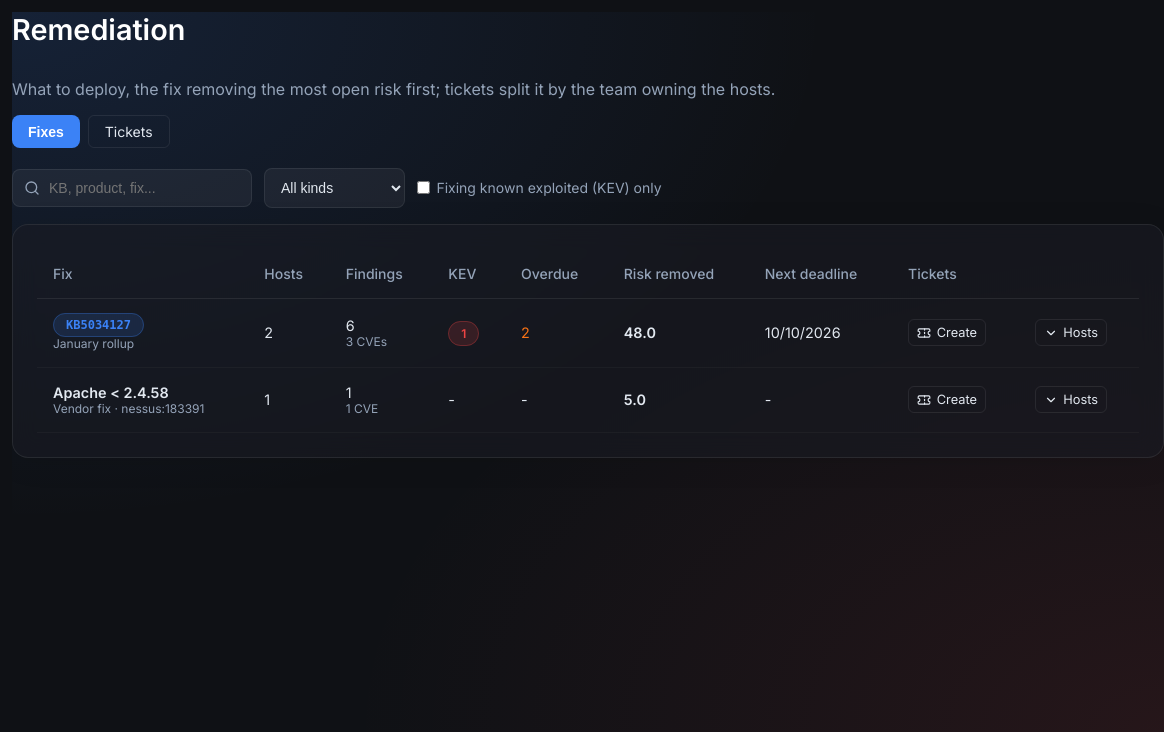
it: RemediationPlan › opens the hosts still waiting for a fix
The width and height of the screenshot is (1164, 732).
Click the button with aria-label "Show hosts for KB5034127": (1071, 333) [1035,319,1107,346]
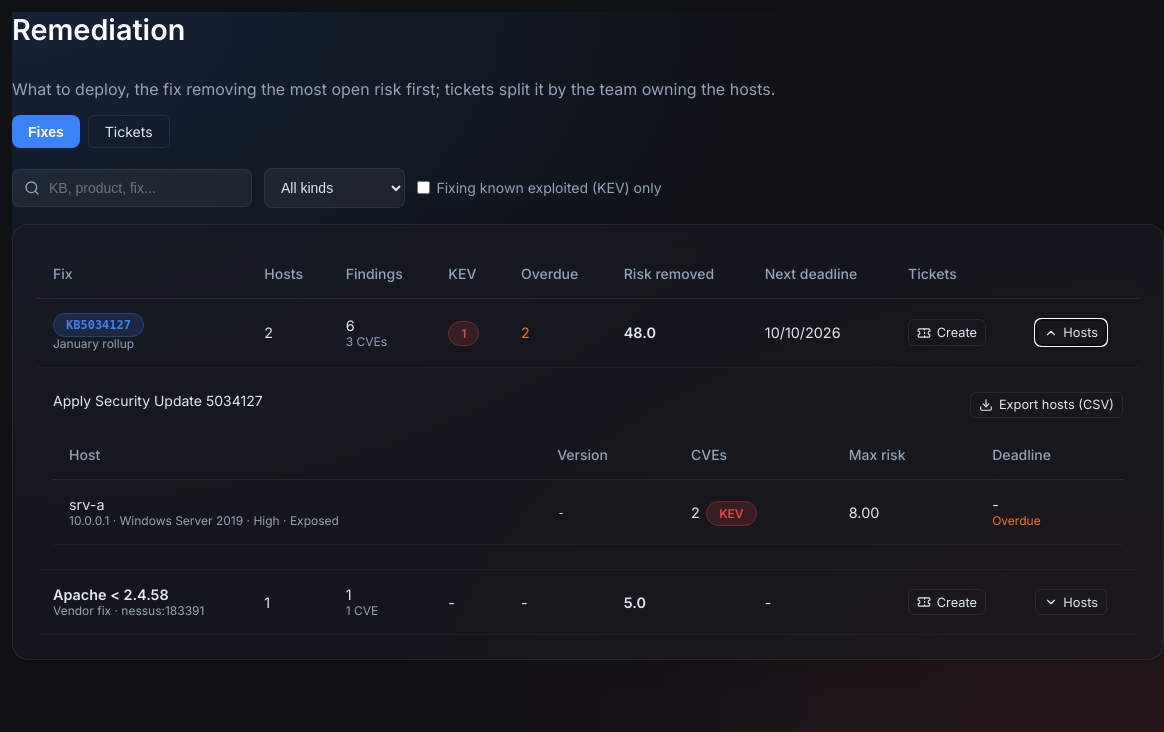
Check: the text "srv-a" is shown, box [69,496,104,513]
Check: the text "Apply Security Update 5034127" is shown, box [53,392,263,409]
Check: the text "Overdue" is shown, box [992,513,1041,528]
